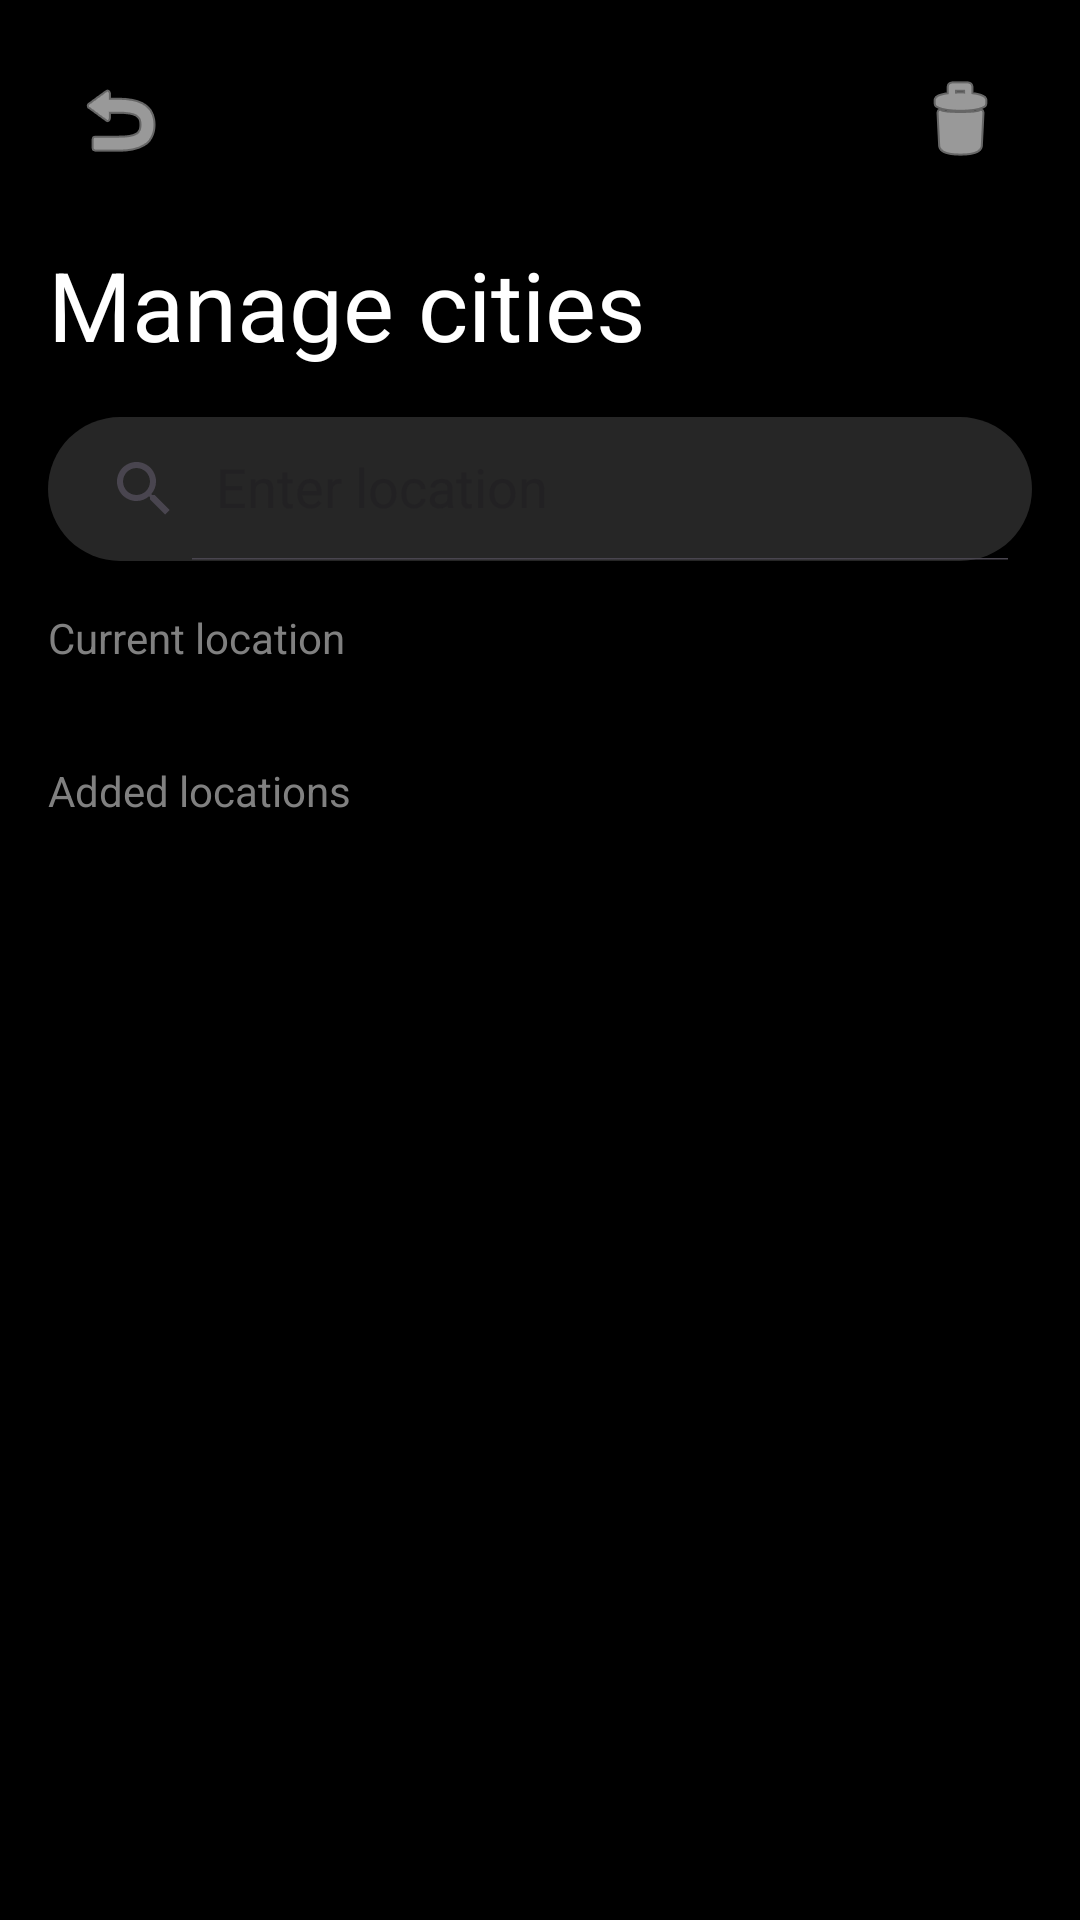

Screen size 1080 × 1920. Icon name, then its box in pixels as (x1, y1, x2, y2):
delete: (933, 81, 988, 156)
revert: (87, 89, 156, 152)
